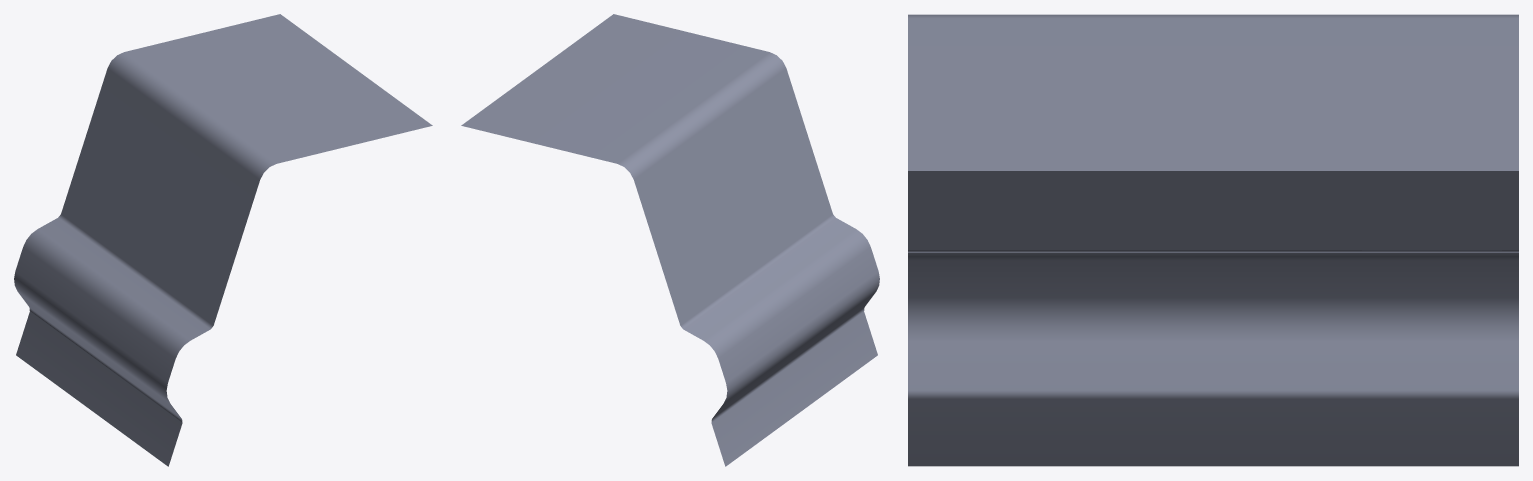
Rendered from regularwall.fbx.
3 renders of one model, left to right at view 1: azimuth 30°, elevation 25°; view 2: azimuth 150°, elevation 25°; view 3: azimuth 270°, elevation 25°, orthographic. The views are drawn at different scales.
Parts seen in each view (by area): view 1: pCube104; view 2: pCube104; view 3: pCube104.
Part boxes in pixels (x1,y1,x2,y2): pCube104: (14,14,432,466); pCube104: (461,14,879,466); pCube104: (908,14,1518,466).
Size of the model in its own units: 101 by 100 by 100.
